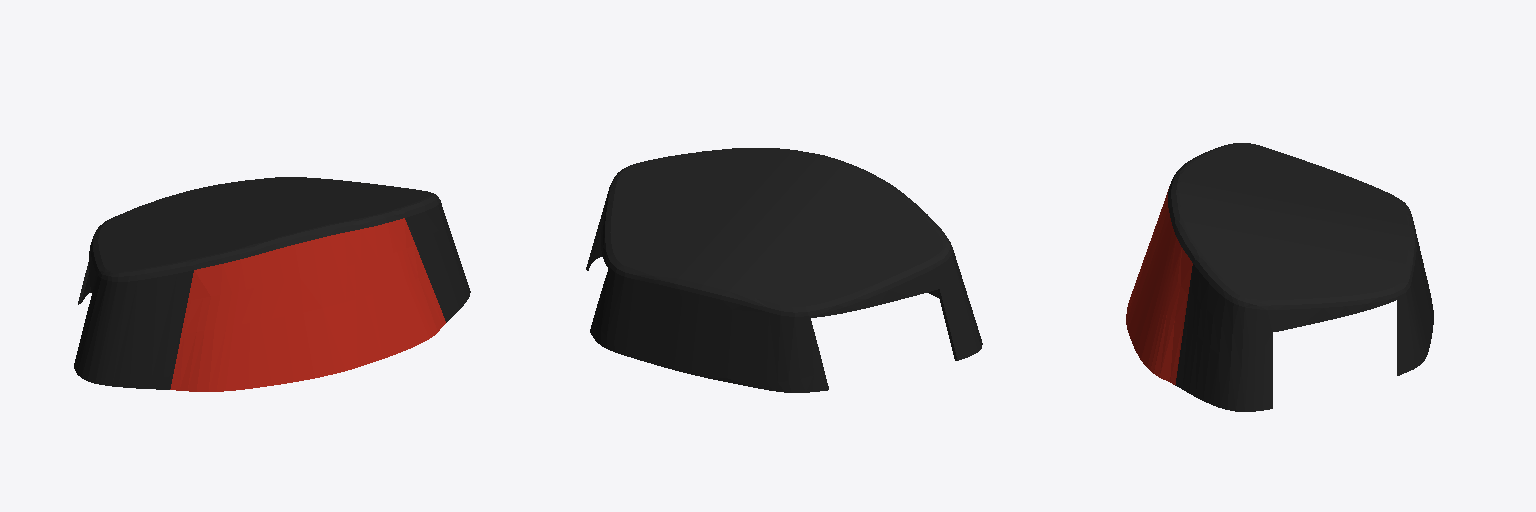
Rendered from Rear_cover_optimized.obj.
3 renders of one model, left to right at view 1: azimuth 30°, elevation 25°; view 2: azimuth 150°, elevation 25°; view 3: azimuth 270°, elevation 25°, orthographic.
Parts seen in each view (by area): view 1: 3 rear cover; view 2: 3 rear cover; view 3: 3 rear cover.
Part boxes in pixels (left/top/right/bottom): 3 rear cover: left=74, top=177, right=470, bottom=391; 3 rear cover: left=586, top=148, right=982, bottom=392; 3 rear cover: left=1126, top=143, right=1433, bottom=411.
Bounding box in the file's own units: 0.4537 × 0.1422 × 0.3144.